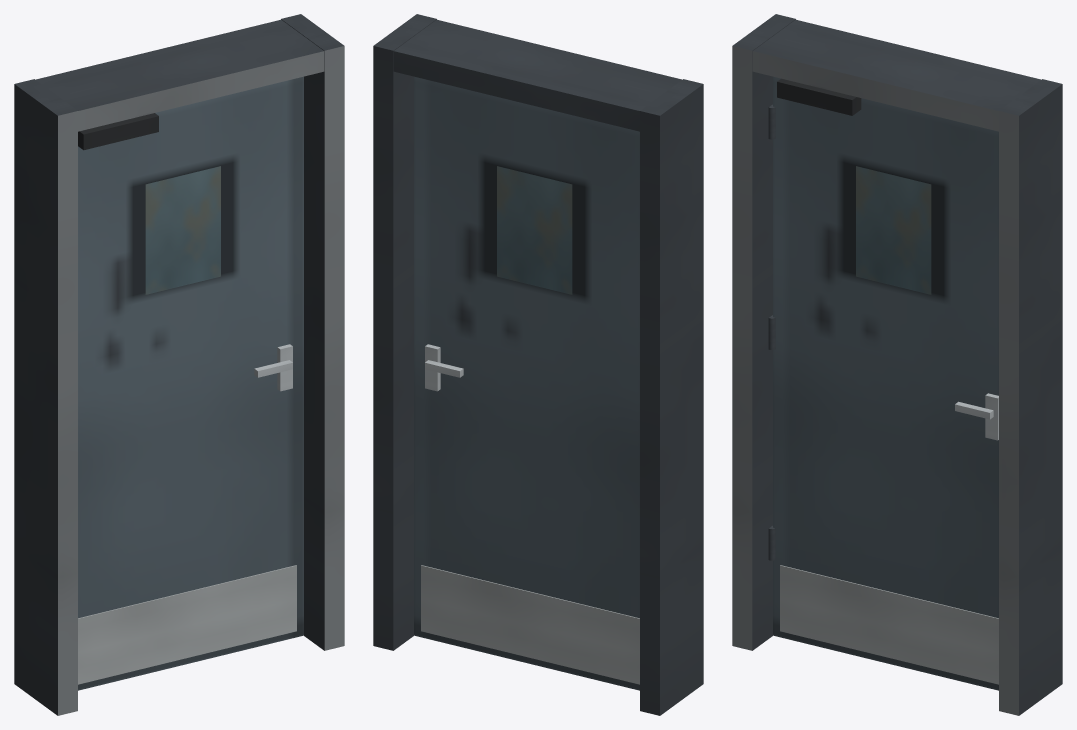
The model's file is door_steel.fbx.
3 renders of one model, left to right at view 1: azimuth 30°, elevation 25°; view 2: azimuth 150°, elevation 25°; view 3: azimuth 330°, elevation 25°, orthographic.
Parts seen in each view (by area): view 1: door_steel_leaf, door_steel, door_steel_jamb, door_steel_head; view 2: door_steel_leaf, door_steel, door_steel_jamb, door_steel_head; view 3: door_steel_leaf, door_steel_jamb, door_steel, door_steel_head.
Boxes of the visible parts, x1,y1,x2,y2 form: door_steel_leaf: [78, 76, 303, 690]; door_steel: [14, 79, 77, 715]; door_steel_jamb: [281, 14, 344, 650]; door_steel_head: [36, 19, 324, 131]; door_steel_leaf: [414, 76, 639, 690]; door_steel: [640, 79, 703, 715]; door_steel_jamb: [373, 14, 436, 650]; door_steel_head: [393, 19, 681, 131]; door_steel_leaf: [768, 76, 998, 690]; door_steel_jamb: [999, 79, 1062, 715]; door_steel: [732, 14, 795, 650]; door_steel_head: [752, 19, 1040, 131].
Bounding box in the file's own units: 1.14 × 2.28 × 0.3.
Materials: 1 (1 with a texture image).
